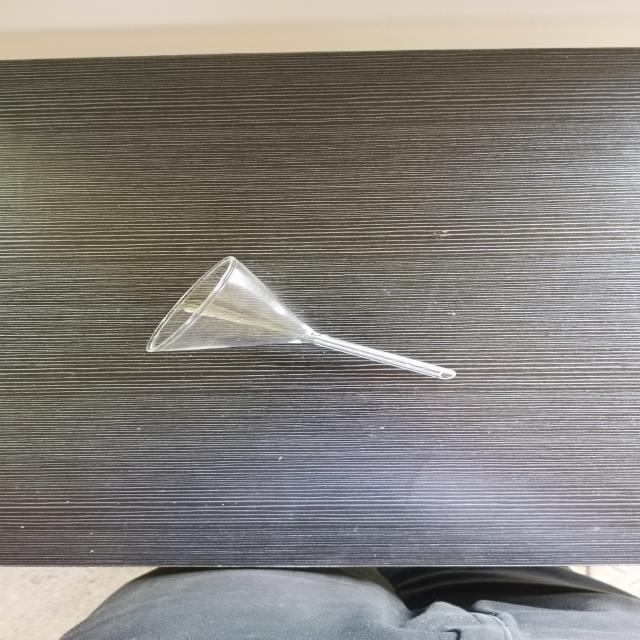funnel: (139, 248, 470, 386)
